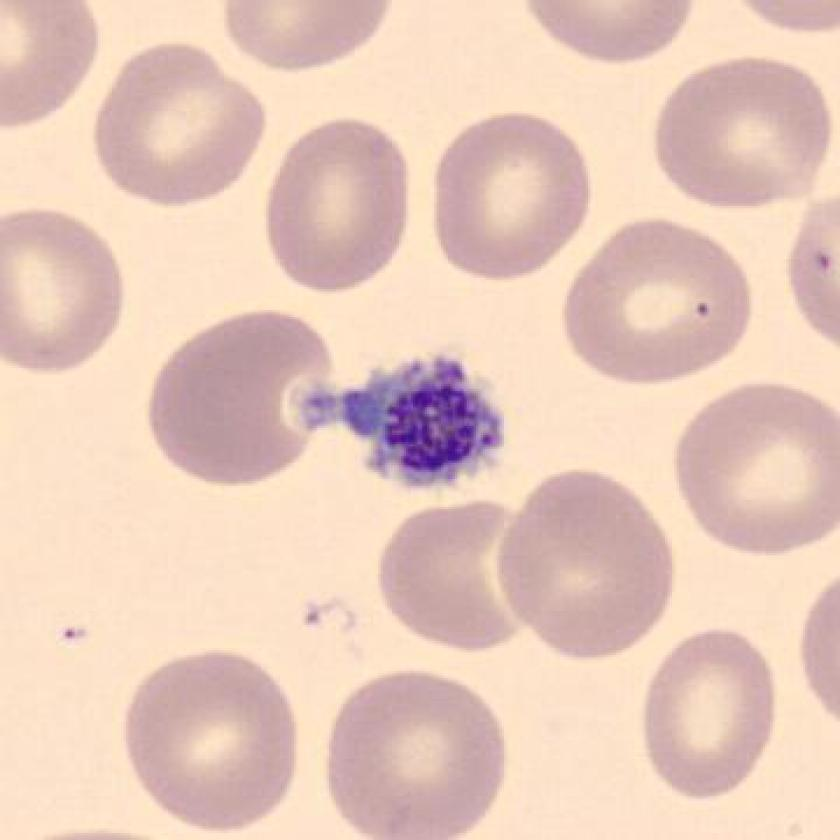platelets: (340, 355, 515, 496)
